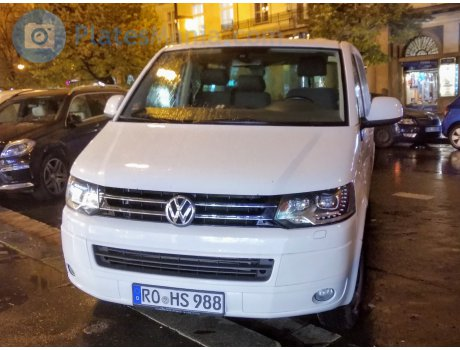License Plates: (134, 286, 222, 309)
